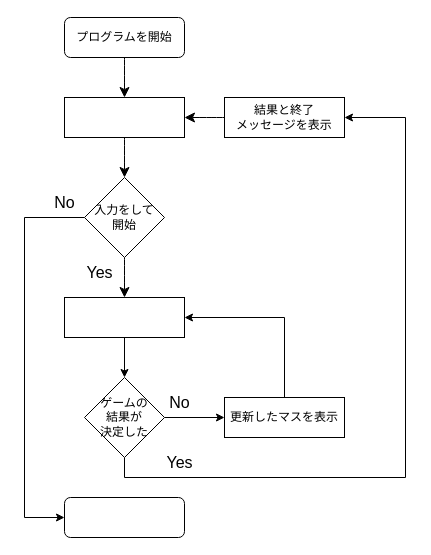
Some shapes in this 431 by 555 pixel diagram are drawn without their labels. Here are the shapes that lost their labels. From the top down, the box of each, then its label:
(64, 96, 184, 138): タイトル、ルールを表示
(64, 296, 184, 338): プレイヤーがoxを 置きたい位置を選ぶ
(64, 496, 184, 538): プログラムを終了
